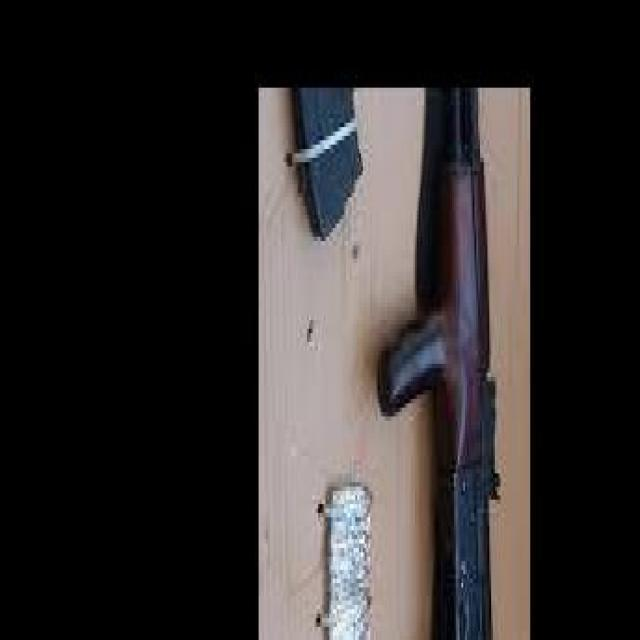weapon: (378, 87, 502, 640)
